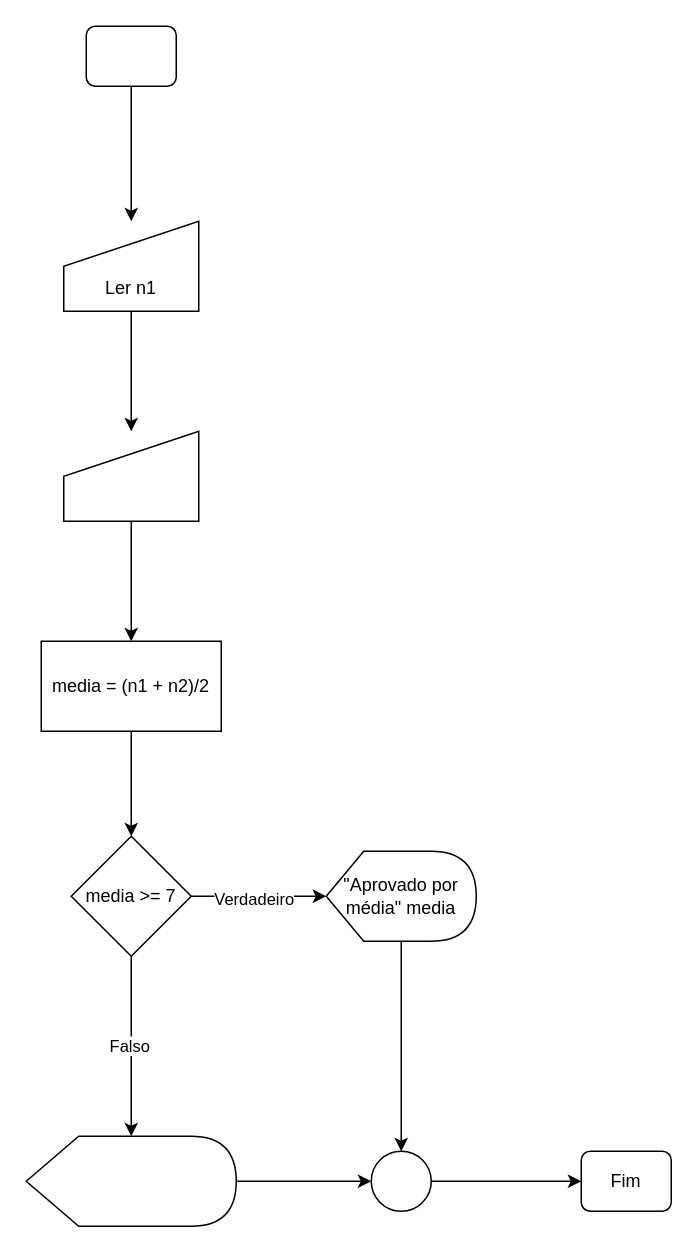
This 698x1253 diagram has some shape labels left out. The box of each missing label's shape, as (x1, y1, x2, y2) in pixels:
"Não aprovado por média" media: (25, 1135, 236, 1226)
Início: (85, 25, 176, 86)
Ler n2: (62, 430, 199, 521)
